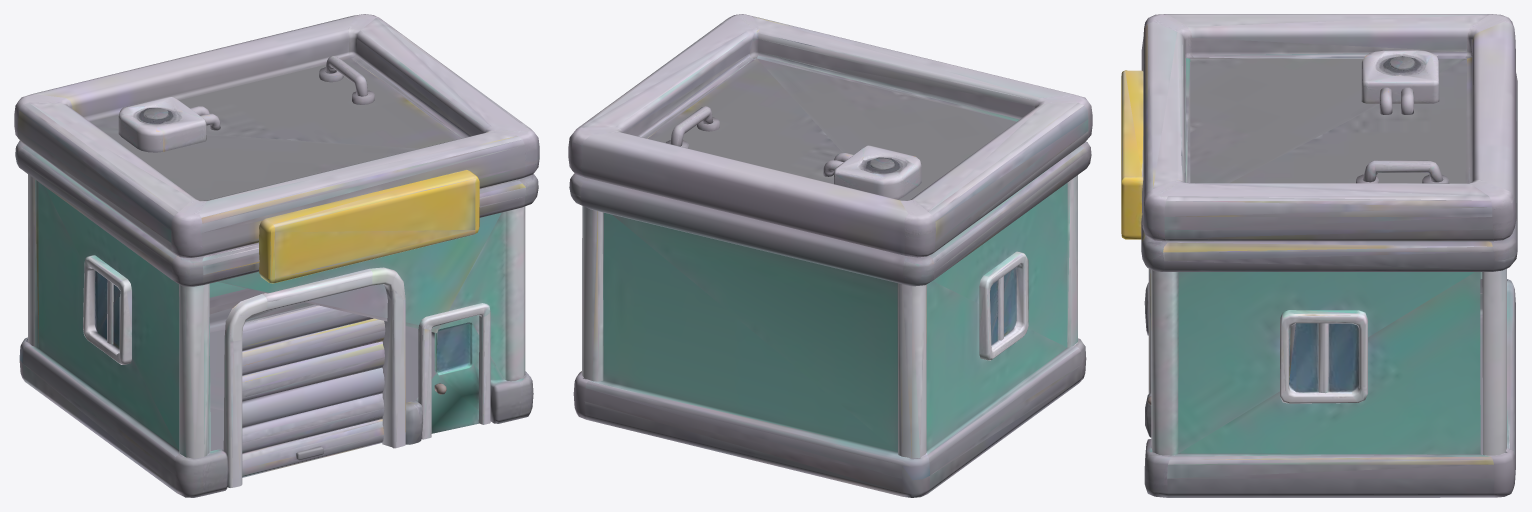
3 renders of one model, left to right at view 1: azimuth 30°, elevation 25°; view 2: azimuth 150°, elevation 25°; view 3: azimuth 270°, elevation 25°, orthographic. The views are drawn at different scales.
Bounding box in the file's own units: 0.9487 × 0.6992 × 0.8335.
1 material, 1 textured.
